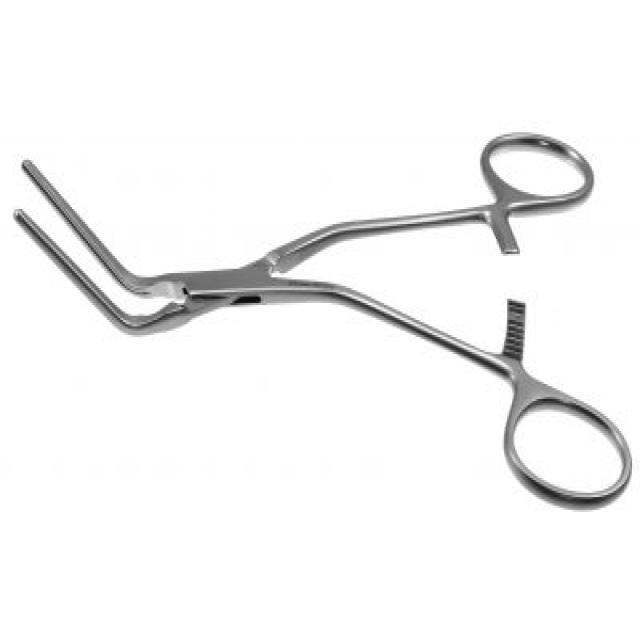Right Angle Colon Clamp: (11, 115, 634, 523)
